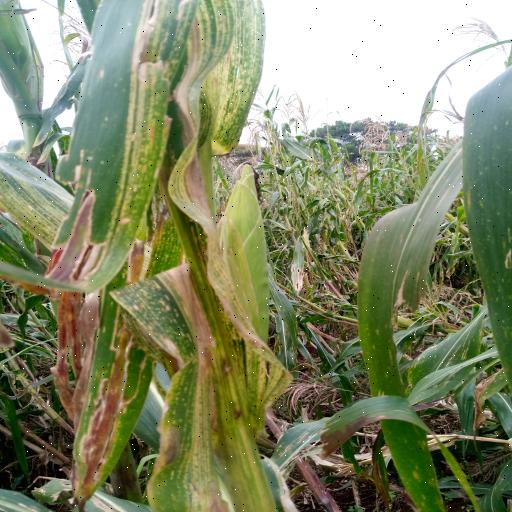Corn_Streak: (55, 0, 299, 512)
